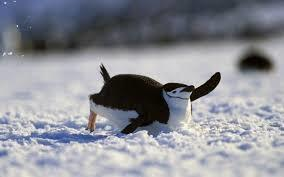chinstrap: (74, 56, 226, 145)
